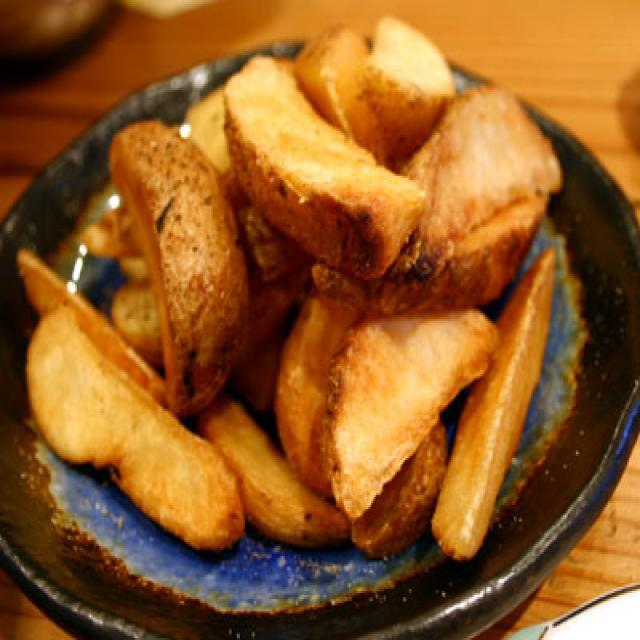French Fries: (39, 44, 557, 532)
